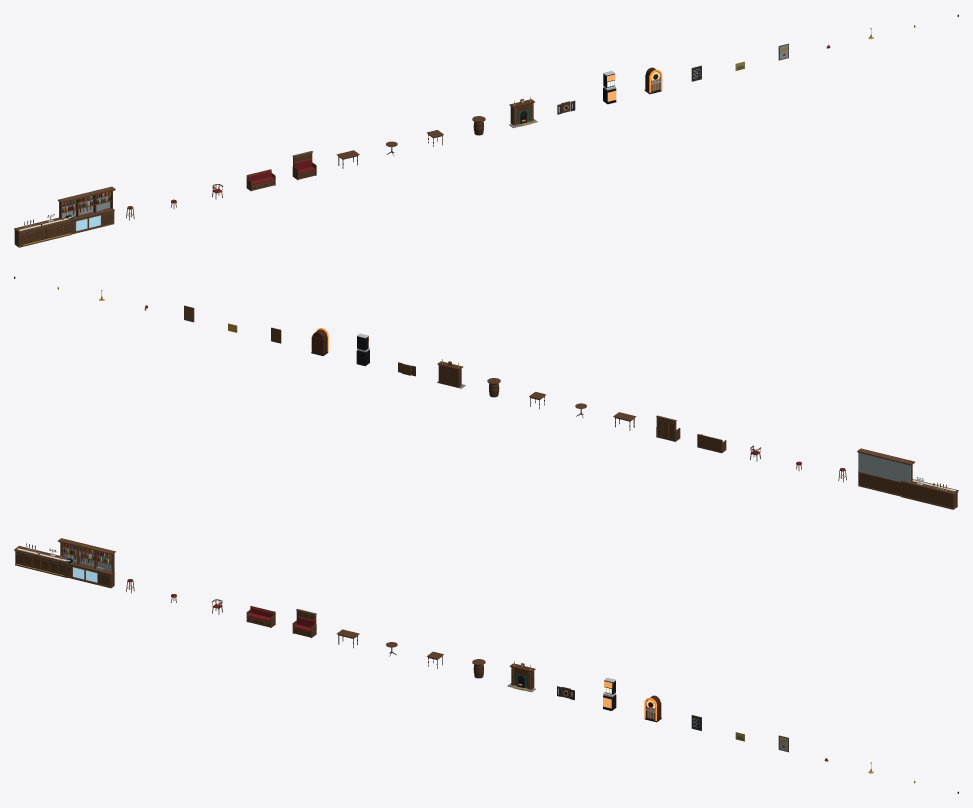
File: Pub.glb
3 renders of one model, top to bottom at view 1: azimuth 30°, elevation 25°; view 2: azimuth 150°, elevation 25°; view 3: azimuth 330°, elevation 25°, orthographic.
Parts seen in each view (by area): view 1: BackBar, Bar, Fireplace, BoothBench; view 2: BackBar, Bar, Fireplace, BoothBench; view 3: BackBar, Bar, Fireplace, BoothBench.
Part boxes in pixels (box(x1,y1,x2,y2)): BackBar: box(58, 186, 115, 234); Bar: box(14, 214, 72, 247); Fireplace: box(509, 96, 537, 127); BoothBench: box(292, 151, 316, 179); BackBar: box(857, 448, 914, 496); Bar: box(900, 477, 958, 509); Fireplace: box(437, 358, 465, 388); BoothBench: box(656, 415, 680, 441); BackBar: box(58, 538, 115, 588); Bar: box(14, 543, 68, 577); Fireplace: box(507, 661, 535, 692); BoothBench: box(292, 609, 316, 637).
Size of the model in its own units: 324 by 11.6 by 4.45.
